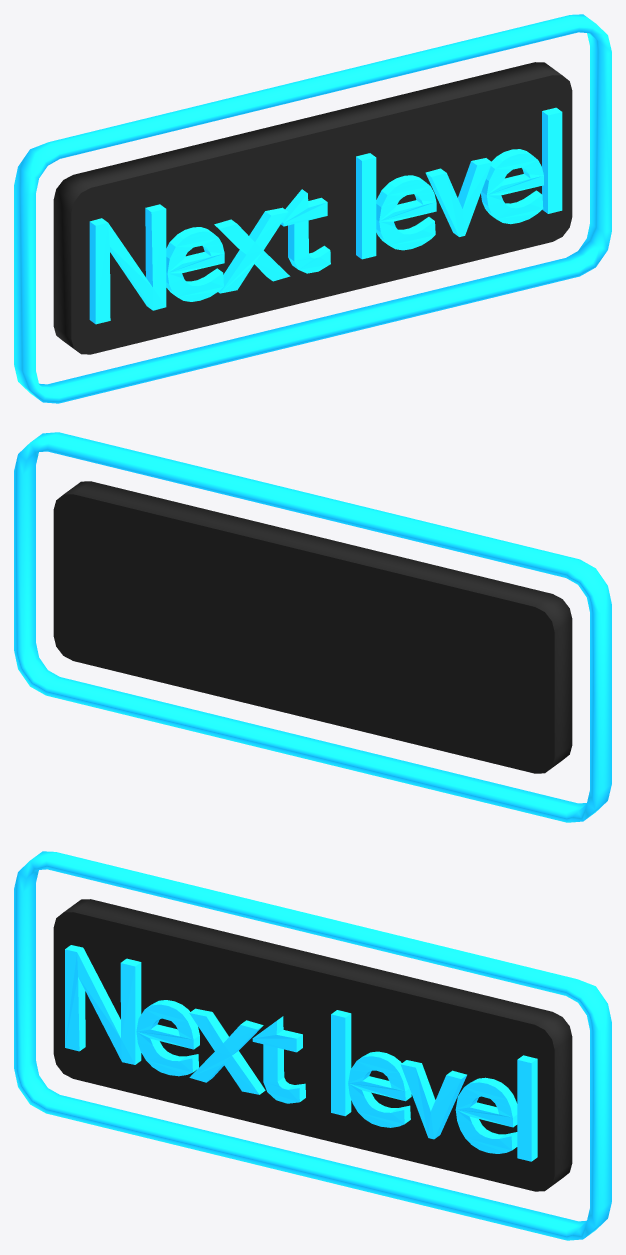
Rendered from nextLevelButton.glb.
3 renders of one model, top to bottom at view 1: azimuth 30°, elevation 25°; view 2: azimuth 150°, elevation 25°; view 3: azimuth 330°, elevation 25°, orthographic.
Visible parts, largest first — view 1: NextLevelButton; view 2: NextLevelButton; view 3: NextLevelButton.
Part boxes in pixels (box(x1,y1,x2,y2)): NextLevelButton: box(14, 14, 611, 403); NextLevelButton: box(14, 432, 611, 822); NextLevelButton: box(14, 851, 611, 1240).
Size of what is drawn, in the model's own units: 3.01 by 1.25 by 0.2207.
Materials: 2 (2 with a texture image).
